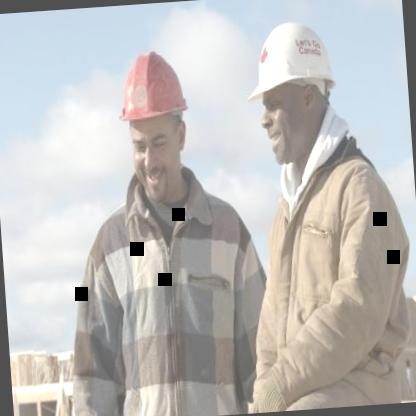helmet: (235, 4, 354, 177), (108, 30, 206, 219)
